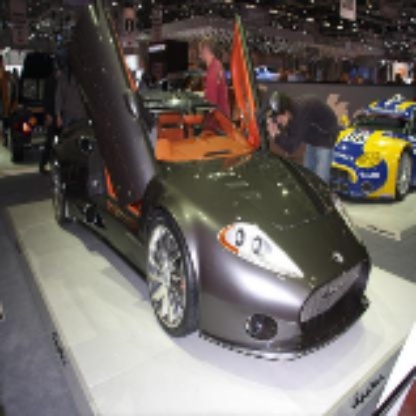Vehicle: (51, 0, 372, 364)
